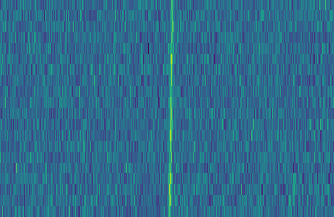signal: (165, 0, 176, 217)
